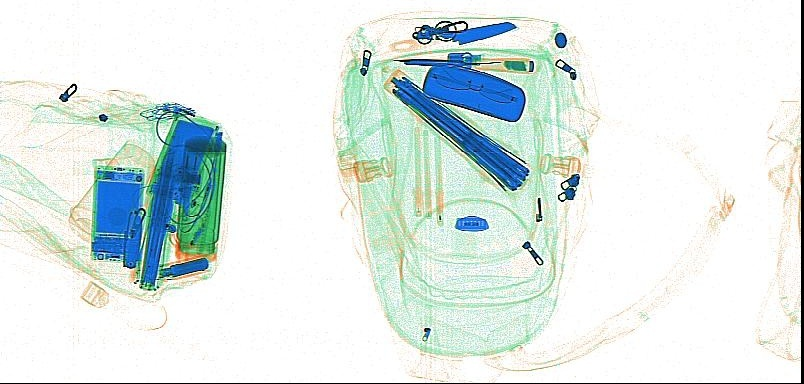knife: (387, 20, 517, 51), (391, 55, 534, 73), (121, 210, 141, 268)
